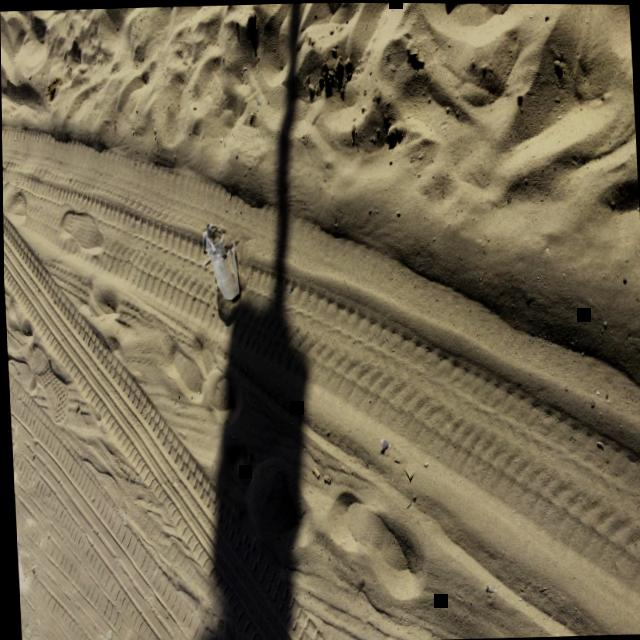Cigarette: (310, 466, 317, 478)
Disposable plastic cup: (205, 240, 237, 299)
Unlabeled litter: (200, 222, 217, 266)
